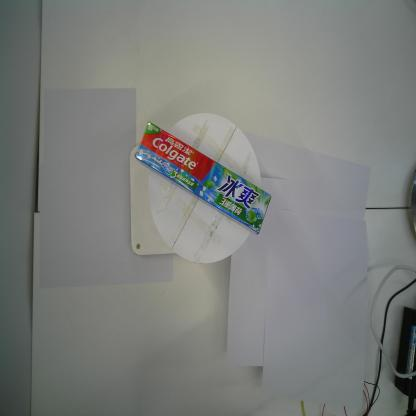Personal Hygiene: (135, 122, 272, 235)
